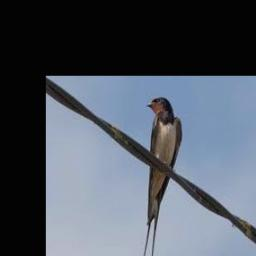Swallow: (140, 97, 182, 256)
